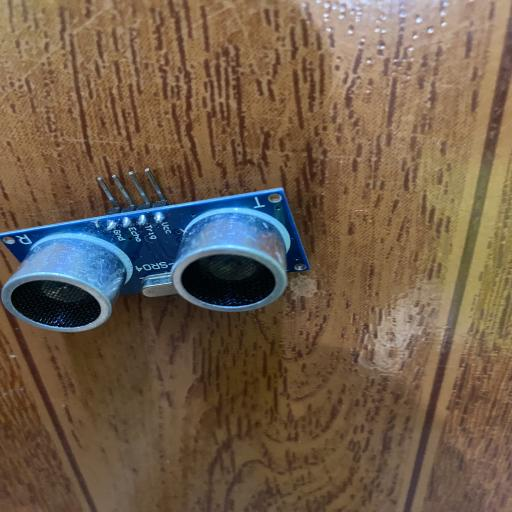Ultrasonic Sensor: (0, 167, 311, 333)
